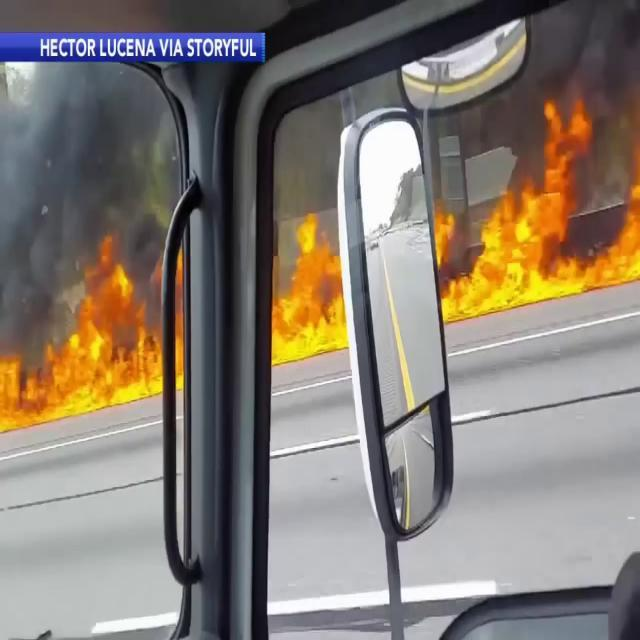Fire: (440, 90, 640, 322), (0, 235, 184, 428), (272, 212, 350, 364), (430, 203, 454, 266)
